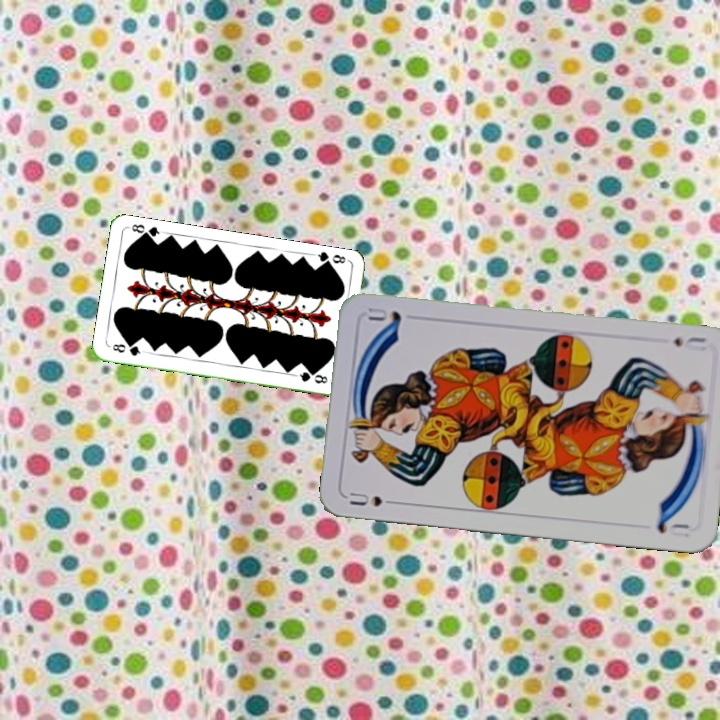G8: (312, 248, 352, 270), (108, 340, 147, 358)
SU: (345, 488, 402, 510), (670, 332, 709, 354)
